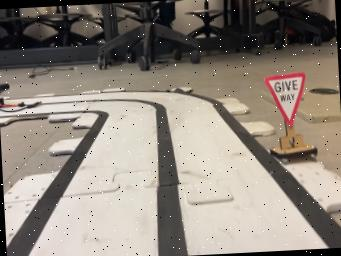give_way: (264, 72, 317, 163), (264, 72, 317, 163)
street: (6, 88, 341, 256), (6, 88, 341, 256)
